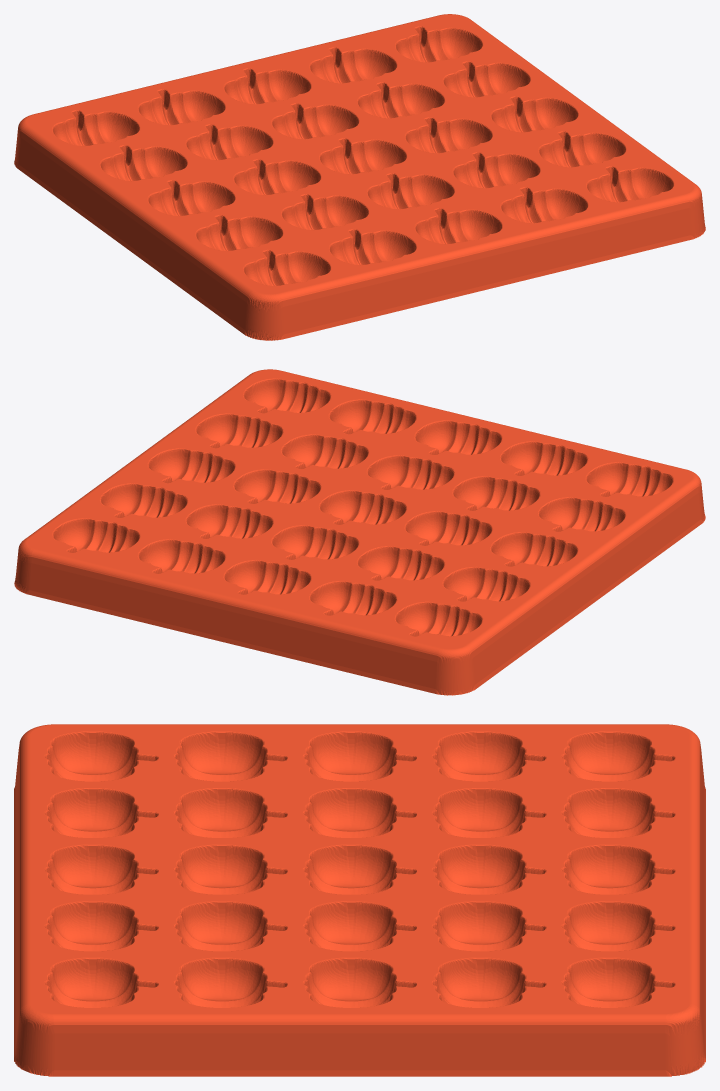
The model's file is mold.glb.
3 views of the same model, one above another, from view 1: azimuth 30°, elevation 25°; view 2: azimuth 150°, elevation 25°; view 3: azimuth 270°, elevation 25° (orthographic). The views are drawn at different scales.
Visible parts, largest first — view 1: geometry_0; view 2: geometry_0; view 3: geometry_0.
Boxes of the visible parts, x1,y1,x2,y2 form: geometry_0: (14,14,705,340); geometry_0: (14,369,705,695); geometry_0: (14,724,705,1076).
Size of the model in its own units: 0.1584 by 0.0136 by 0.1532.
